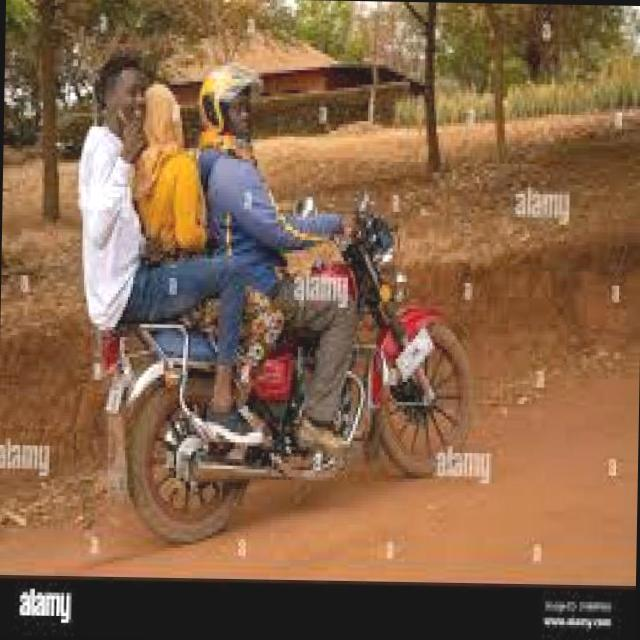motorcycle: (80, 194, 482, 546)
person: (187, 62, 373, 382), (76, 54, 186, 355), (115, 79, 231, 316)
rider_region: (76, 45, 487, 548)
